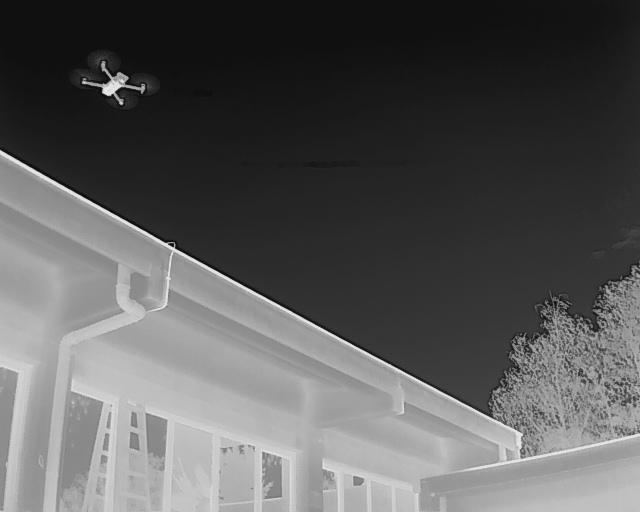drone: (75, 44, 162, 115)
